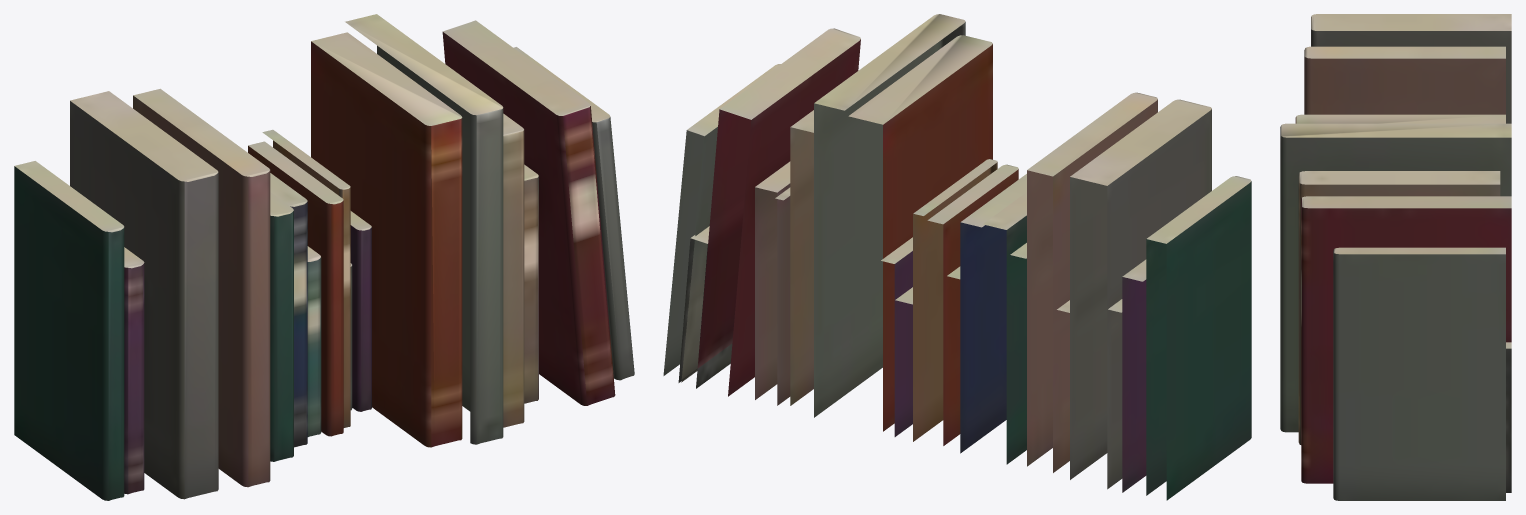
Rendered from book-row-60.glb.
3 views of the same model, side by side, from view 1: azimuth 30°, elevation 25°; view 2: azimuth 150°, elevation 25°; view 3: azimuth 270°, elevation 25° (orthographic). The views are drawn at different scales.
Parts seen in each view (by area): view 1: row_left; view 2: row_left; view 3: row_left.
Boxes of the visible parts, left/top/right/bottom form: row_left: left=14, top=14, right=634, bottom=500; row_left: left=663, top=14, right=1251, bottom=500; row_left: left=1280, top=14, right=1511, bottom=500.
Size of the model in its own units: 0.5744 by 0.3434 by 0.2441.
Materials: 1 (1 with a texture image).
